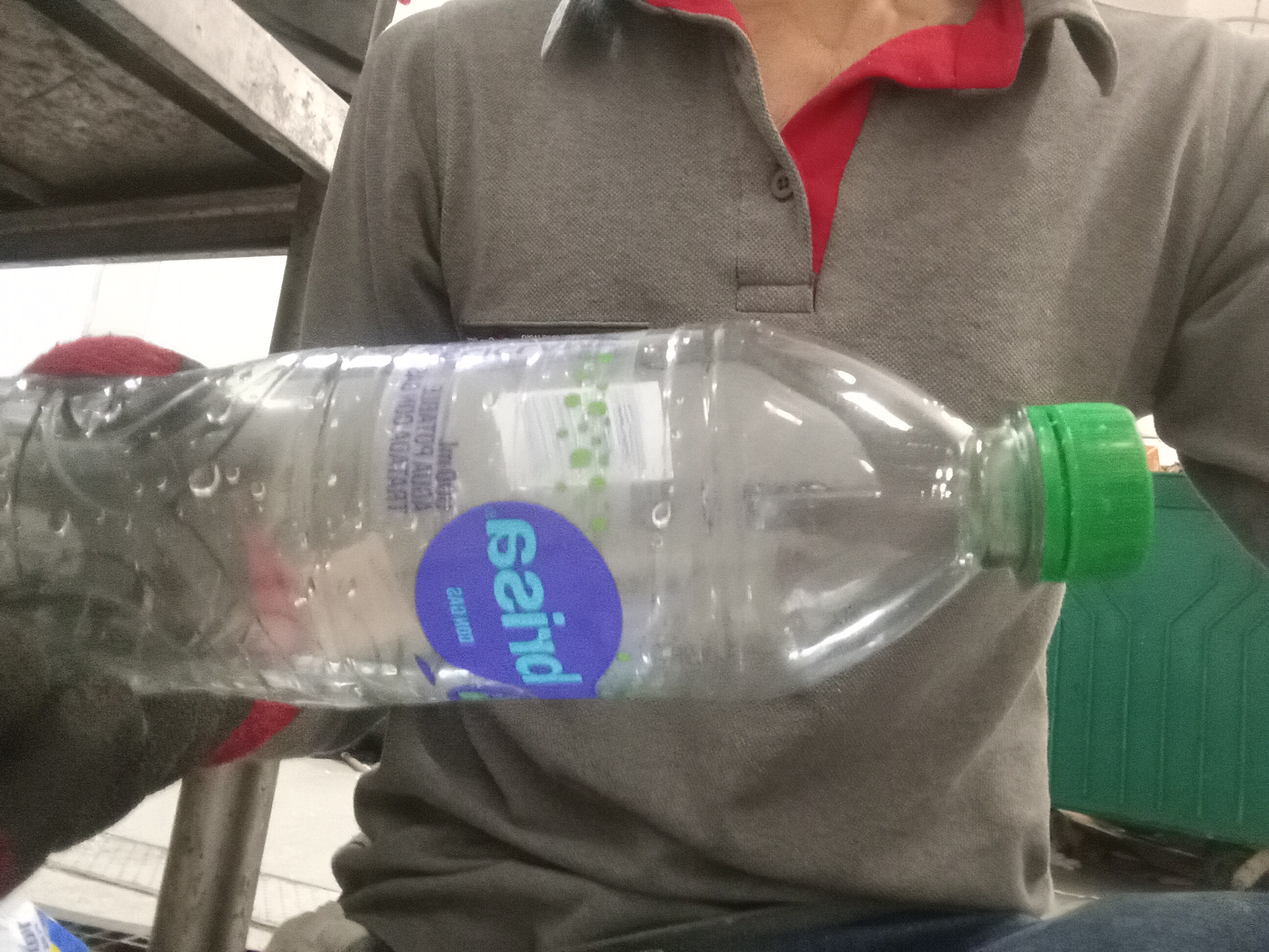Plastico: (0, 320, 1155, 709)
